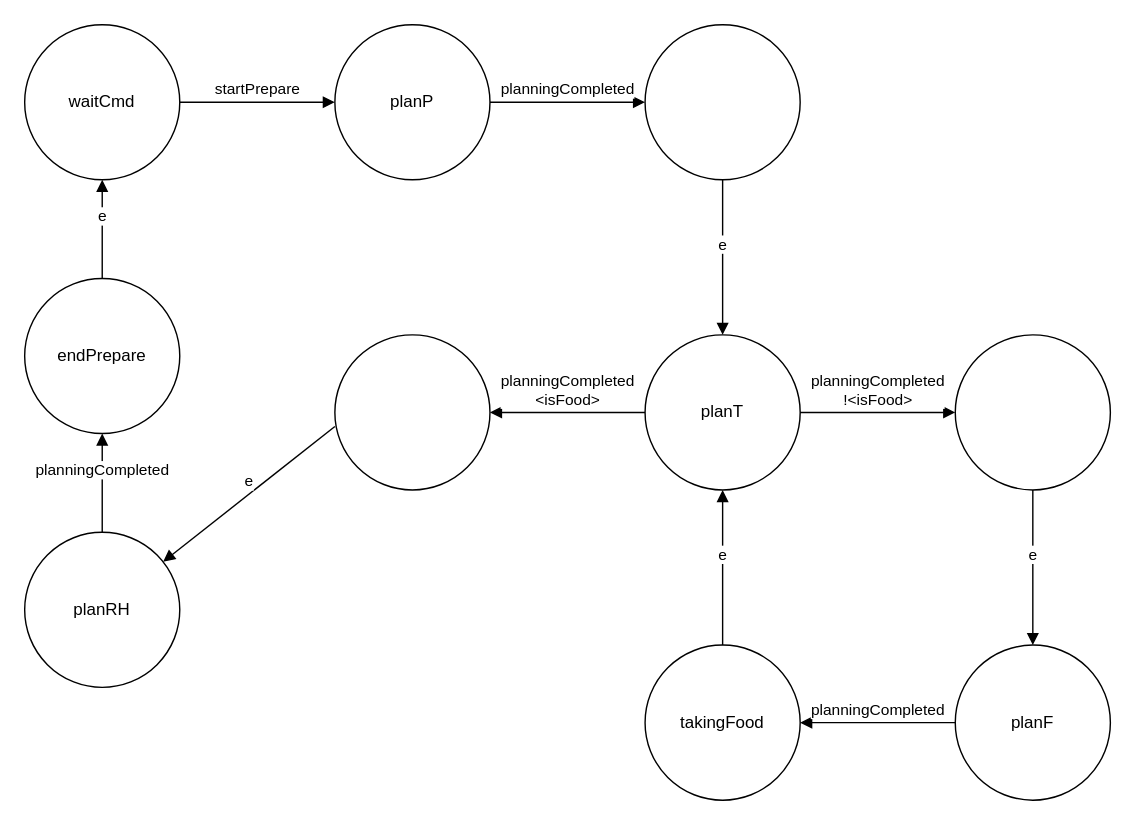
The diagram is 1135 pixels wide and 825 high, and some of its shapes have lost their labels. The shapes that lost their labels are listed below. From the top down, each one's box as (x1, y1, x2, y2) in pixels, then its label:
(644, 23, 800, 180): takingDishes
(333, 333, 490, 490): puttingFood
(954, 333, 1110, 490): puttingDishes
